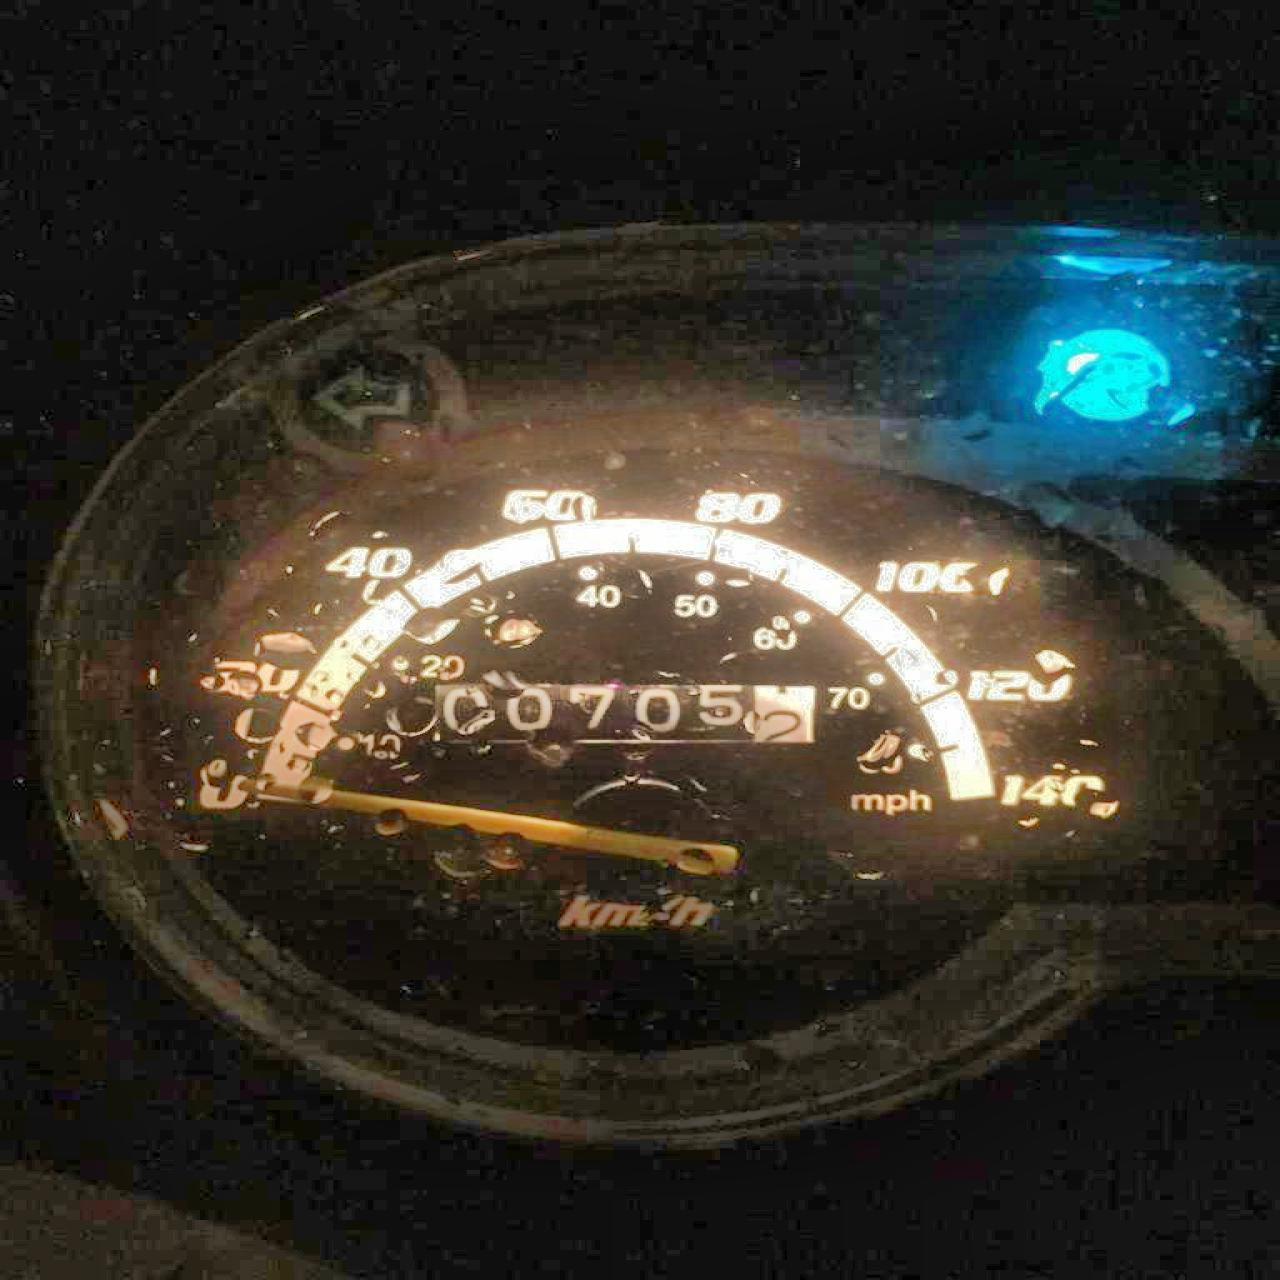0: (627, 685, 686, 737), (440, 685, 493, 740), (503, 687, 554, 737)
2: (758, 702, 809, 742)
5: (696, 682, 743, 733)
7: (566, 682, 612, 731)
odometer: (430, 681, 818, 745)
